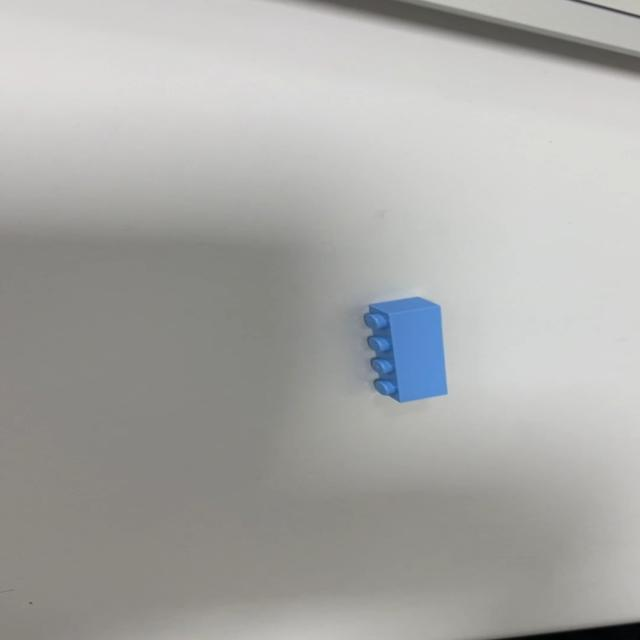C4x1x1: (362, 296, 448, 403)
